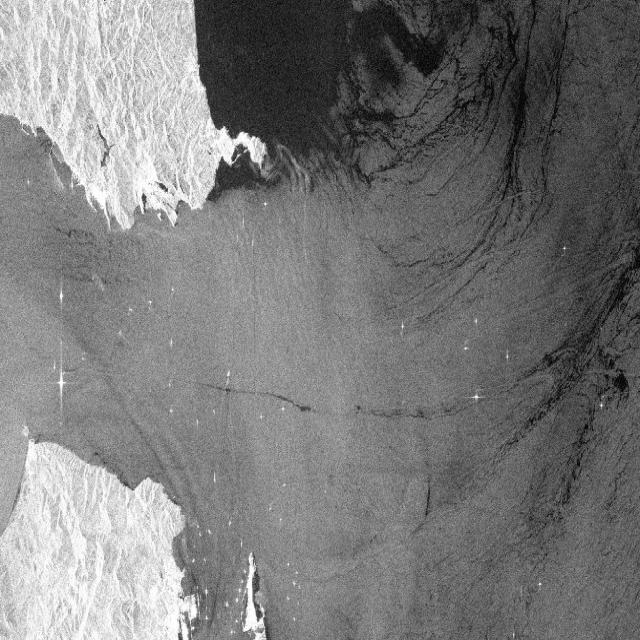look-alike: (347, 1, 560, 282), (498, 255, 638, 508)
oil-spill: (182, 371, 313, 418)
